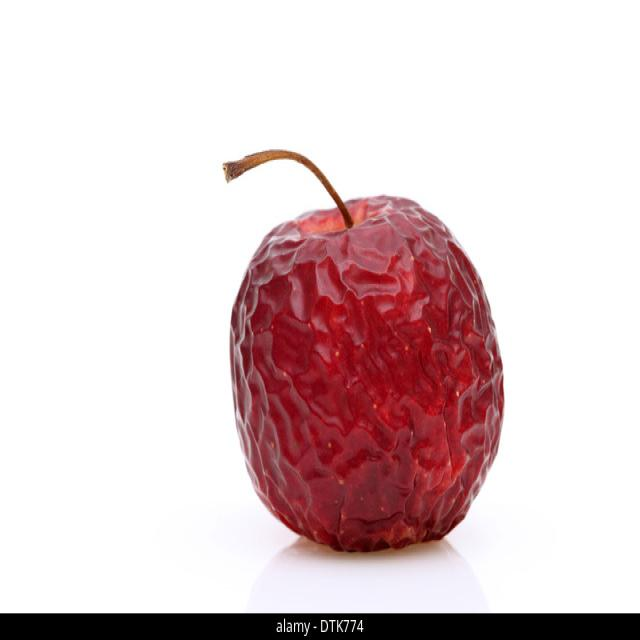overripe: (222, 187, 512, 552)
